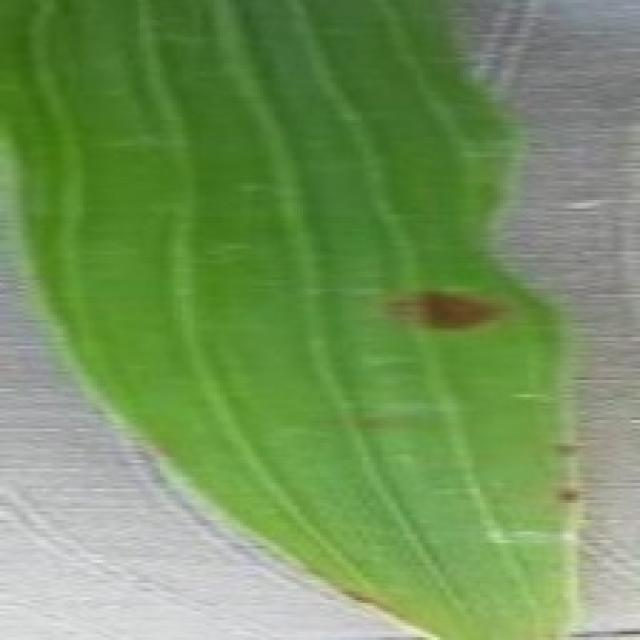Rice___Brown_Spot: (0, 1, 577, 637)
